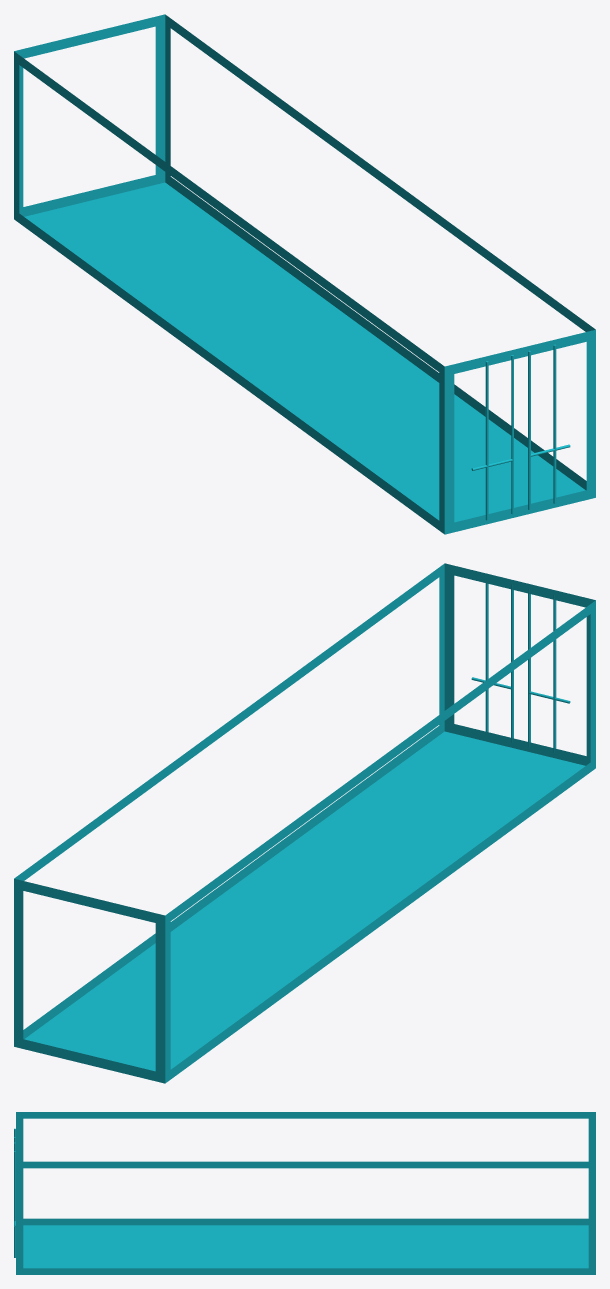
The model's file is Stoles 40HC.dae.
The picture shows the model from 3 angles, top to bottom: view 1: azimuth 30°, elevation 25°; view 2: azimuth 150°, elevation 25°; view 3: azimuth 270°, elevation 25°; orthographic projection. The views are drawn at different scales.
Visible parts, largest first — view 1: group_8; view 2: group_8; view 3: group_8.
Part boxes in pixels (box(x1,y1,x2,y2)): group_8: box(14, 14, 595, 534); group_8: box(14, 563, 595, 1083); group_8: box(16, 1112, 595, 1274).
Size of the model in its own units: 96 by 475 by 102.
